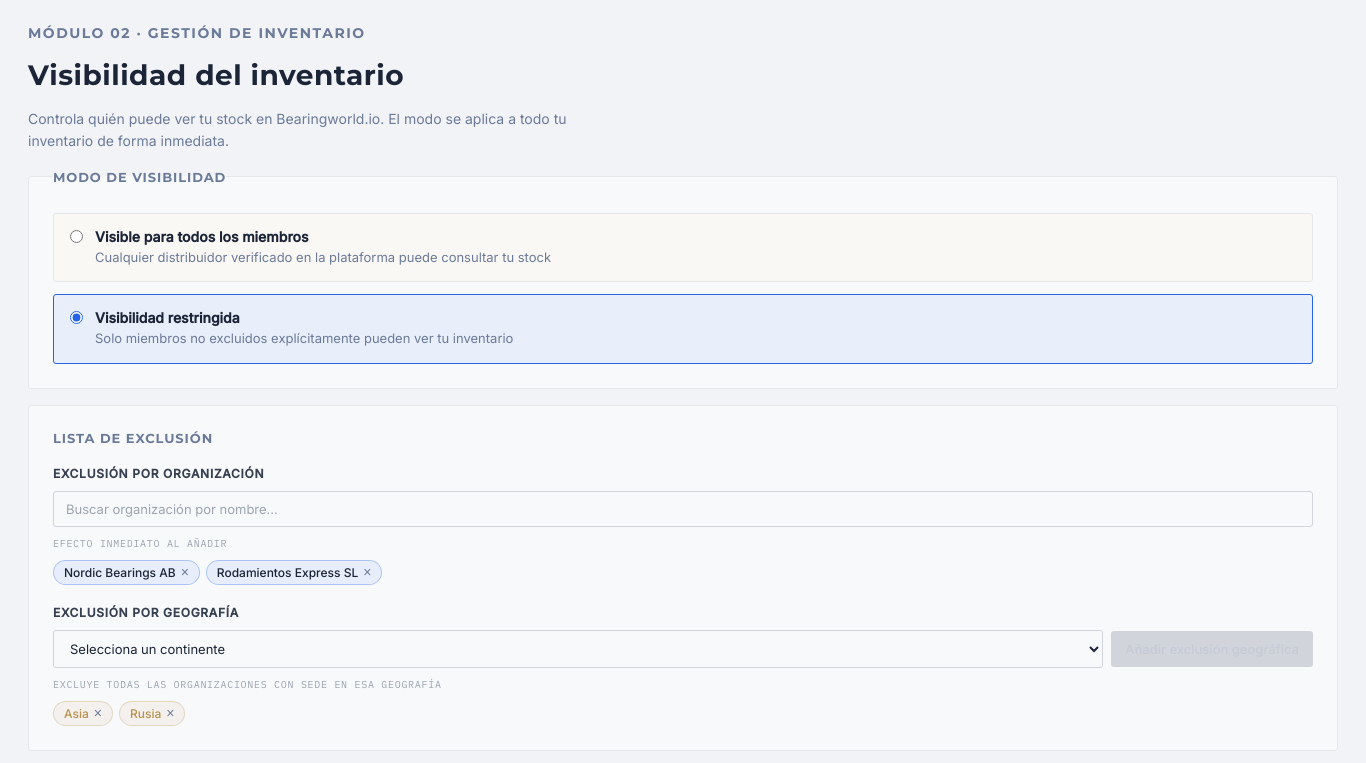
Test case: Visibility · el panel de exclusión según el modo › volver a «Visibilidad restringida» reactiva el panel y quita el aviso
Expected: the radio button labelled "Visibilidad restringida" is shown, 70,311 -> 83,324
Click the radio button labelled "Visible para todos los miembros": (76,236) 70,230 -> 83,243
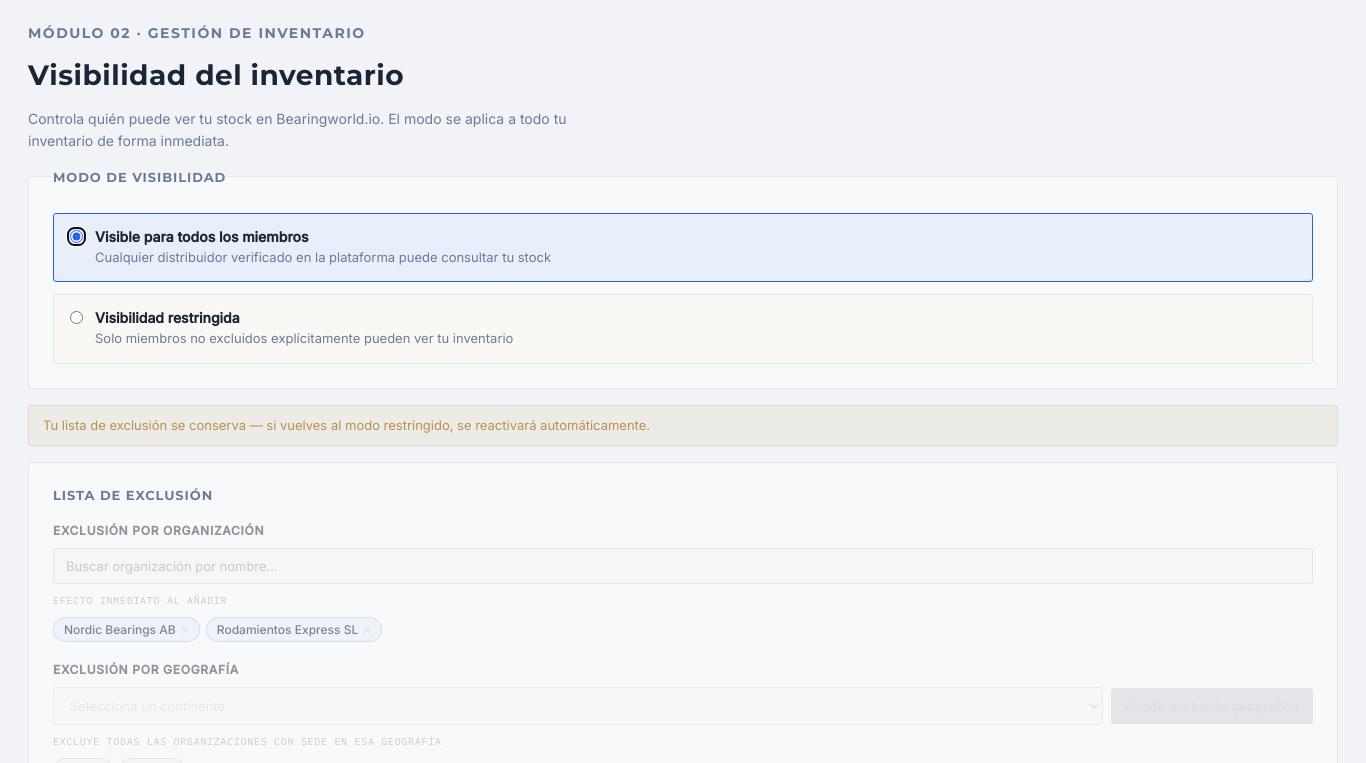
Click the radio button labelled "Visibilidad restringida": (76,318) 70,311 -> 83,324
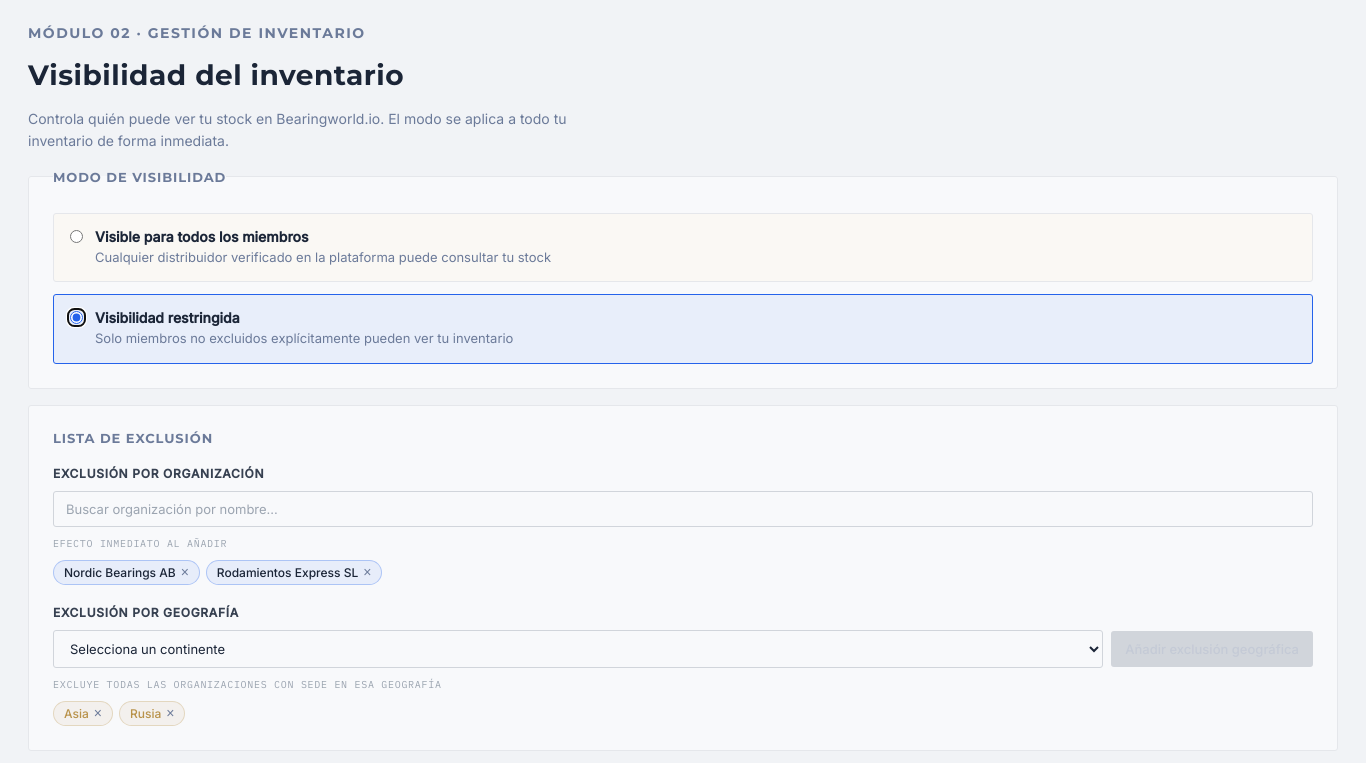
Now the text "Tu lista de exclusión se conserva" is gone
